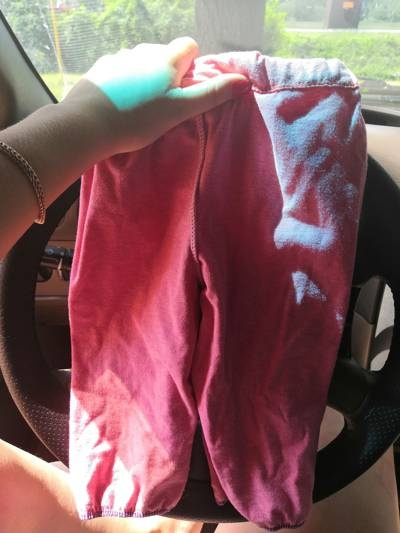Pants: (65, 42, 365, 527)
